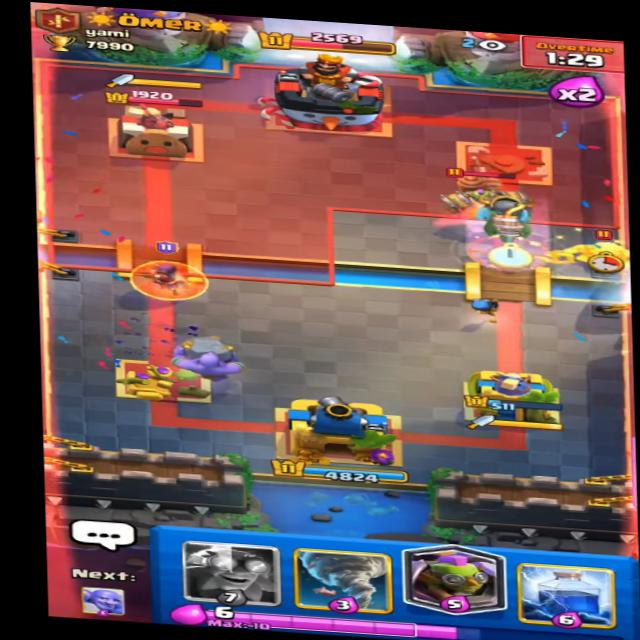evo-wizard: (126, 237, 214, 305)
fisherman: (535, 220, 640, 277)
goblin-machine: (425, 156, 532, 233)
